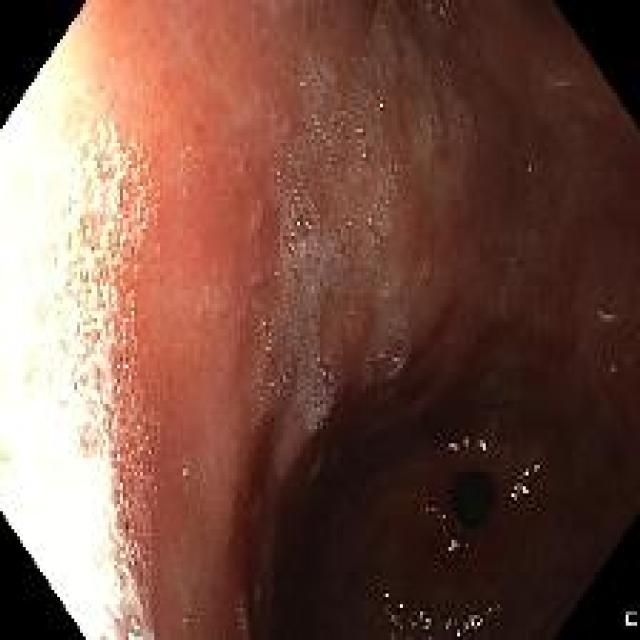bubbles: (111, 346, 155, 638), (255, 306, 294, 407), (305, 348, 338, 423), (306, 257, 335, 334), (364, 334, 408, 384), (281, 209, 313, 258), (417, 106, 443, 164), (297, 113, 327, 157), (362, 202, 385, 257), (451, 96, 475, 146), (330, 211, 352, 263), (134, 191, 153, 244), (75, 209, 99, 248), (426, 0, 457, 30), (372, 179, 397, 216), (120, 216, 137, 268), (91, 263, 109, 310), (328, 102, 348, 142), (282, 266, 301, 303), (351, 102, 369, 141), (232, 600, 252, 633), (285, 179, 309, 205), (382, 274, 402, 303), (75, 261, 92, 293), (175, 462, 195, 489), (436, 57, 455, 85), (384, 155, 400, 185), (179, 609, 195, 632), (356, 144, 372, 166), (296, 71, 311, 93), (524, 159, 539, 181), (327, 147, 337, 173), (374, 96, 386, 115), (312, 68, 323, 88), (378, 66, 390, 83), (316, 91, 326, 109)
contrast: (251, 328, 637, 639)
saturation: (0, 5, 120, 639)
specularity: (380, 591, 505, 637), (508, 463, 539, 499), (445, 438, 488, 457), (419, 503, 449, 530), (446, 538, 468, 561), (116, 480, 130, 515), (126, 622, 145, 639), (83, 217, 92, 238), (120, 183, 129, 202), (304, 220, 312, 232), (100, 162, 108, 172), (293, 219, 301, 227), (115, 452, 122, 461), (117, 523, 122, 534), (124, 442, 130, 450), (110, 284, 115, 293)
